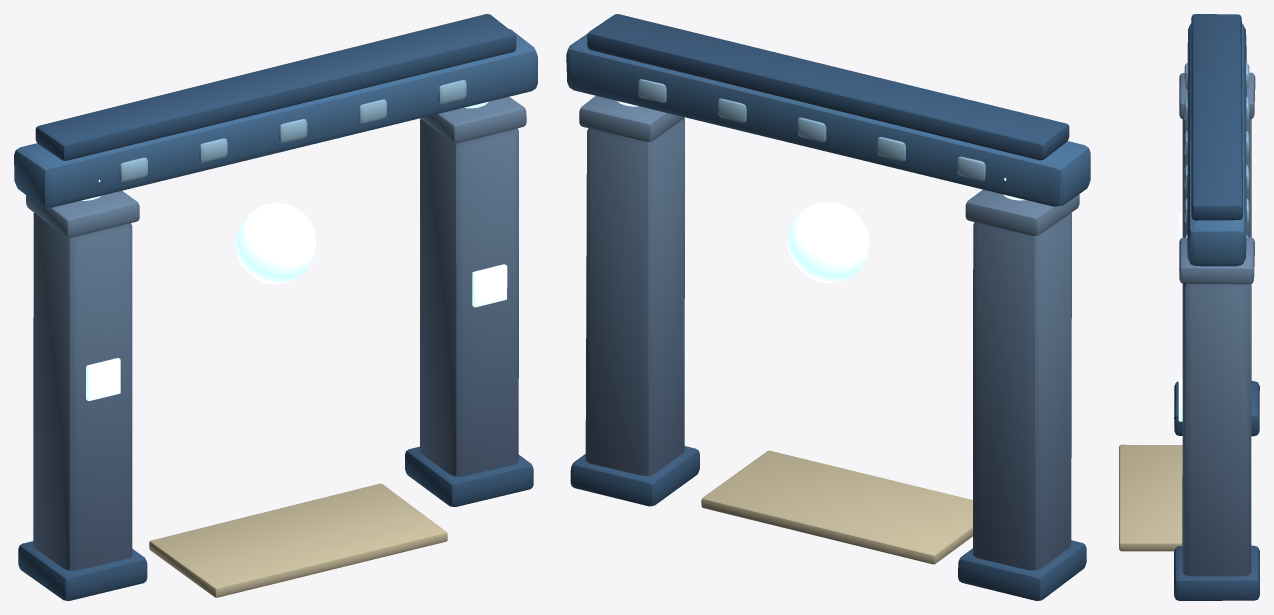
The picture shows the model from 3 angles, left to right: view 1: azimuth 30°, elevation 25°; view 2: azimuth 150°, elevation 25°; view 3: azimuth 270°, elevation 25°; orthographic projection. The views are drawn at different scales.
Parts seen in each view (by area): view 1: gate_04536771; view 2: gate_04536771; view 3: gate_04536771.
Part boxes in pixels (x1=…): gate_04536771: x1=14, y1=14, x2=537, y2=600; gate_04536771: x1=566, y1=14, x2=1090, y2=600; gate_04536771: x1=1119, y1=14, x2=1259, y2=600.
Bounding box in the file's own units: 5.14 × 4.45 × 1.44.
